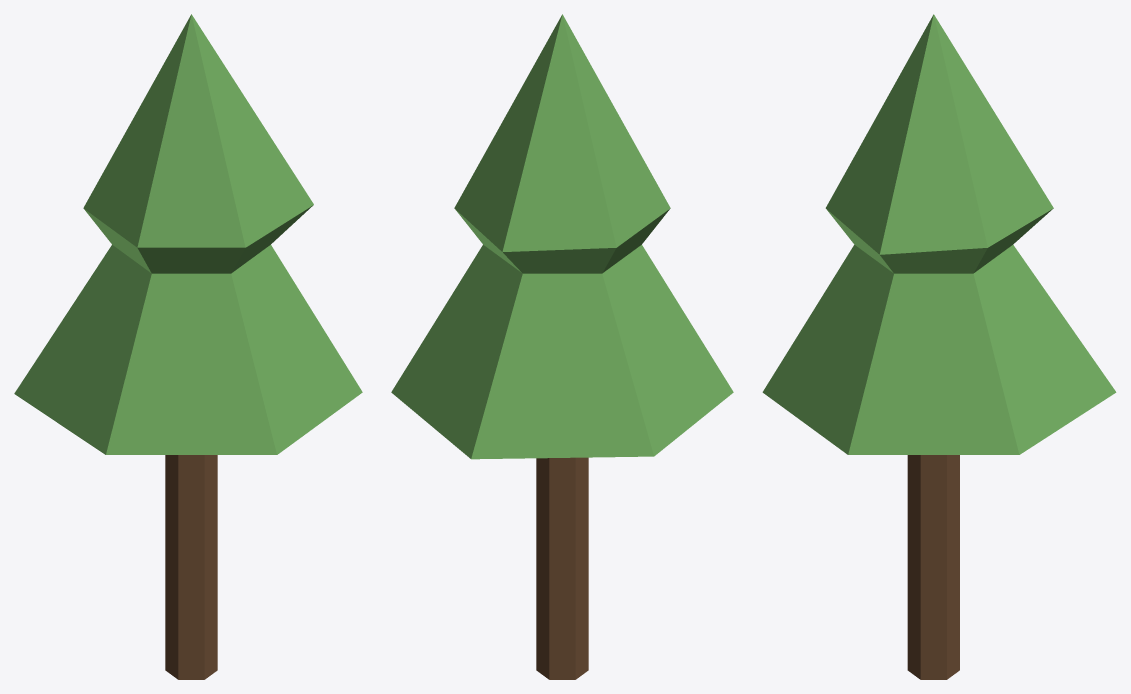
File: Environment_Objects_Tree_01.fbx
The picture shows the model from 3 angles, left to right: view 1: azimuth 30°, elevation 25°; view 2: azimuth 150°, elevation 25°; view 3: azimuth 270°, elevation 25°; orthographic projection.
Parts seen in each view (by area): view 1: Environment_Objects_Tree_01; view 2: Environment_Objects_Tree_01; view 3: Environment_Objects_Tree_01.
Boxes of the visible parts, x1,y1,x2,y2 form: Environment_Objects_Tree_01: (14,14,362,679); Environment_Objects_Tree_01: (391,14,733,679); Environment_Objects_Tree_01: (762,14,1116,679).
Bounding box in the file's own units: 185 × 441 × 216.
